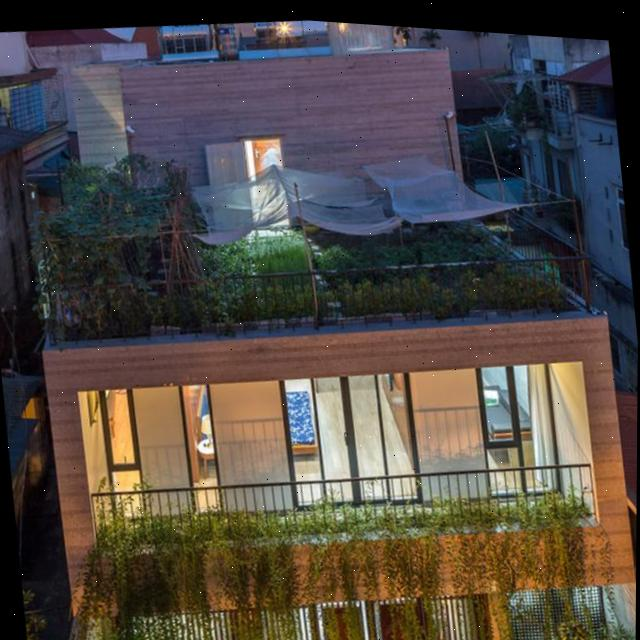building: (5, 3, 640, 640)
